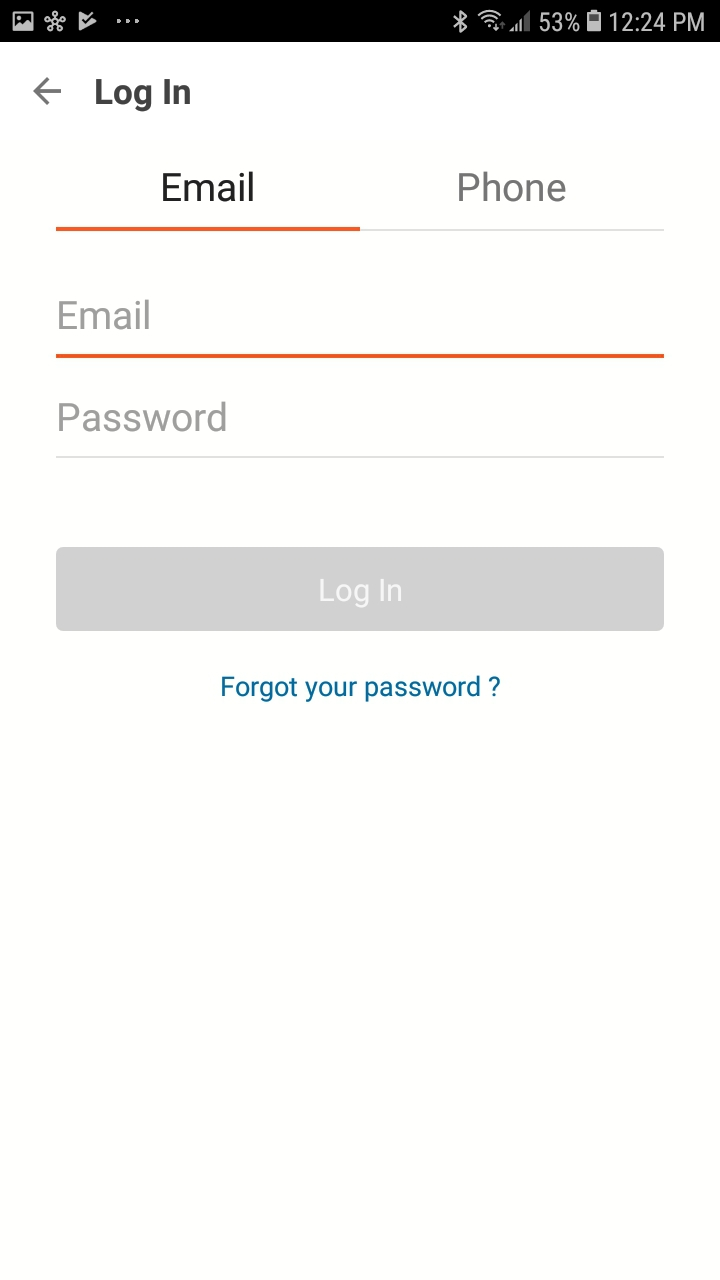EditText: (57, 299, 665, 359), (57, 401, 665, 460)
Icon: (34, 77, 63, 106)
Text: (222, 674, 501, 703), (59, 402, 227, 434), (458, 171, 566, 203), (96, 79, 191, 113), (163, 171, 254, 203), (60, 300, 150, 331)
TextButton: (57, 547, 665, 632)
UpperTaskBar: (1, 1, 720, 43)
